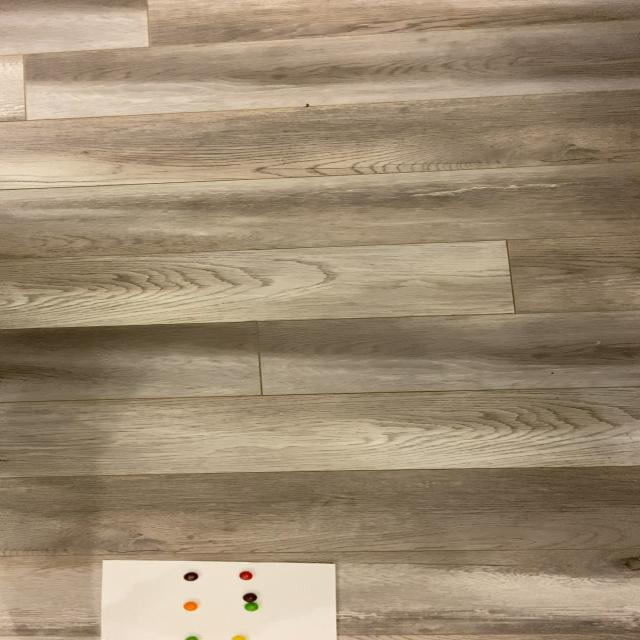smartie: (183, 602, 198, 612), (242, 594, 257, 603), (244, 603, 259, 612), (238, 571, 253, 580), (183, 572, 198, 580)
